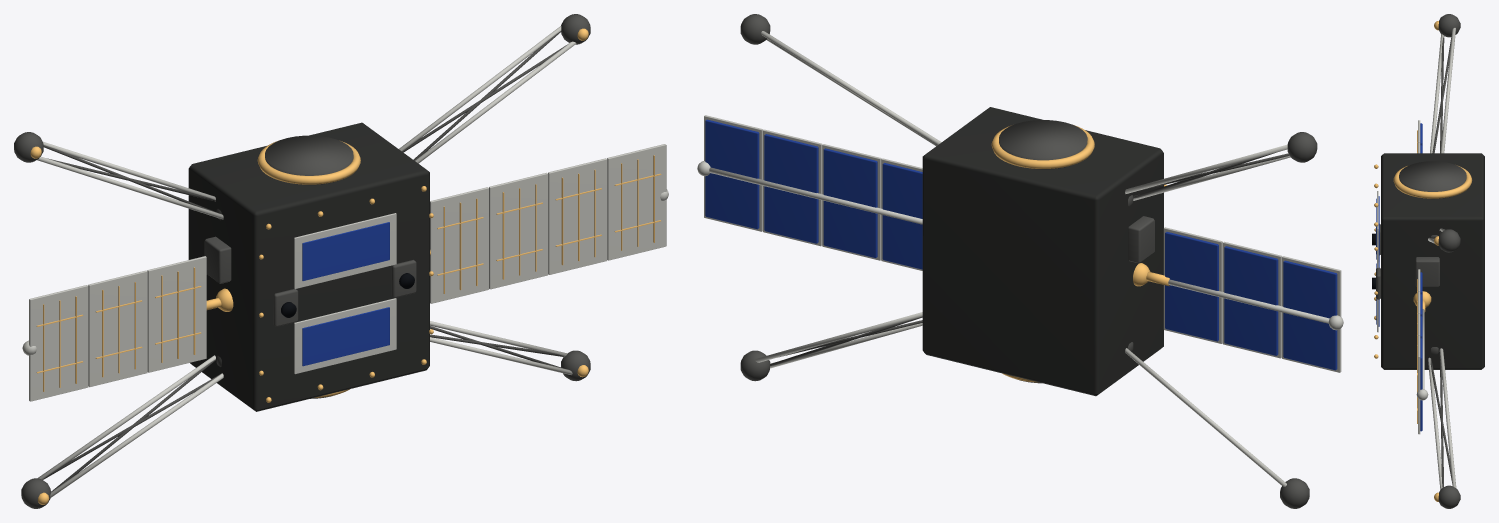
The model's file is clean-space-1.fbx.
The picture shows the model from 3 angles, left to right: view 1: azimuth 30°, elevation 25°; view 2: azimuth 150°, elevation 25°; view 3: azimuth 270°, elevation 25°; orthographic projection. The views are drawn at different scales.
Visible parts, largest first — view 1: Satellite_POC_StaticMesh; view 2: Satellite_POC_StaticMesh; view 3: Satellite_POC_StaticMesh.
Part boxes in pixels (left/top/right/bottom): Satellite_POC_StaticMesh: left=14, top=14, right=668, bottom=508; Satellite_POC_StaticMesh: left=697, top=14, right=1343, bottom=508; Satellite_POC_StaticMesh: left=1372, top=14, right=1484, bottom=508.
Size of the model in its own units: 872 by 491 by 174.
